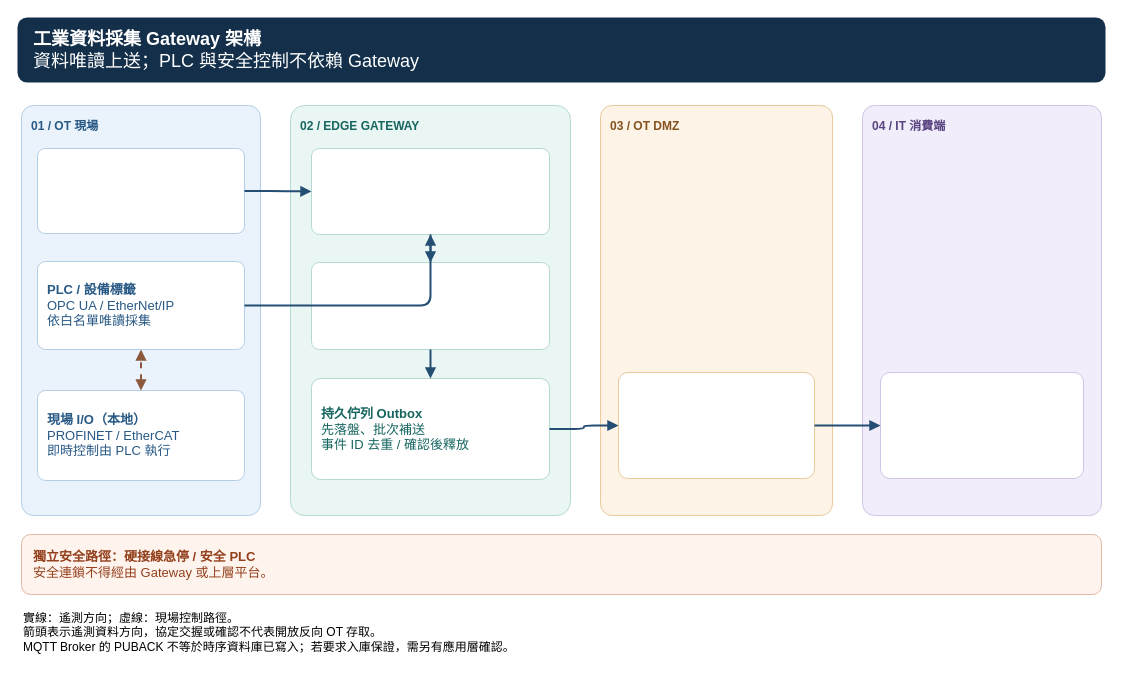
Image size: 1122x696. Some labels were removed from this diagram. Here are the shapes that lost their labels. From the top down, the centre of each, then its label:
At pixel 140 191: "BMS / 儀表與 DDC Modbus RTU / TCP BACnet MS/TP、IP、SC".
At pixel 430 191: "南向協定轉接 分路輪詢 / 訂閱 各路獨立逾時與退避".
At pixel 430 306: "點位映射與品質 型別、倍率、單位、UTC 保留來源狀態與陳舊標記".
At pixel 716 425: "隔離區資料入口 MQTT Broker：遙測 HTTPS 接收 API：選用 確認只走已建立的連線".
At pixel 982 425: "監控與資料服務 SCADA / Historian 資料庫、報表與 API 應用端按事件 ID 去重".
